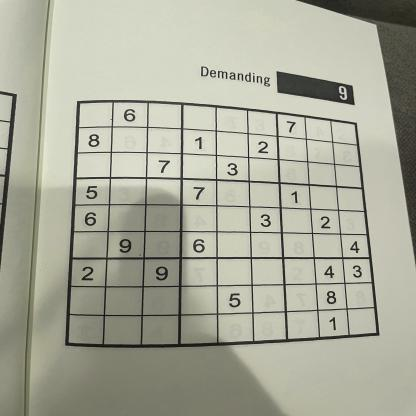sudoku: (63, 98, 384, 354)
